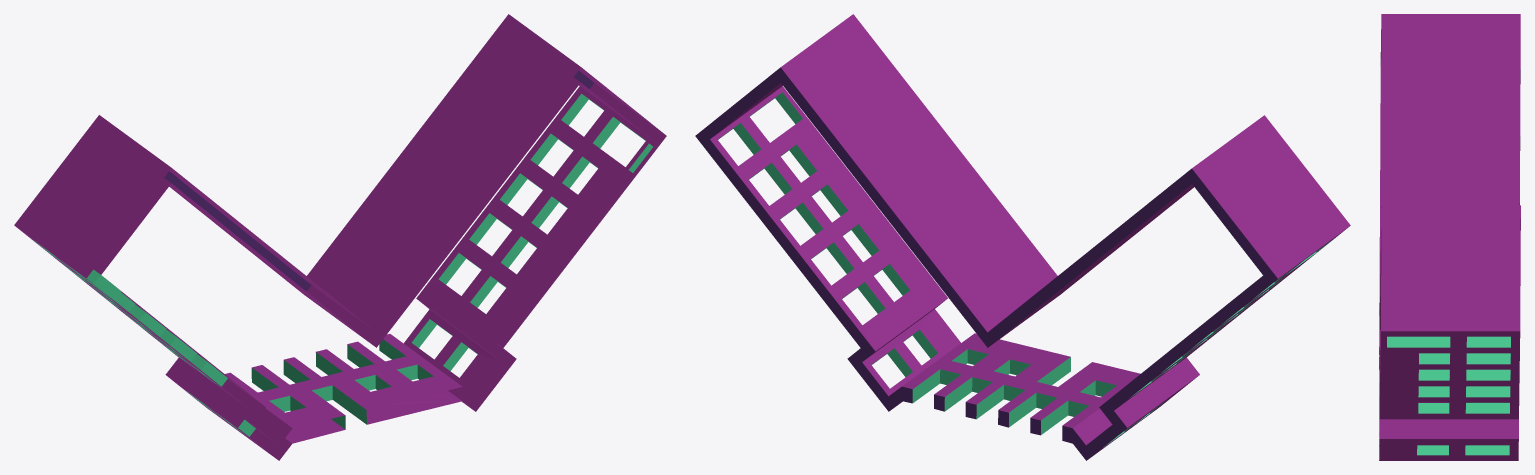
The model's file is Gmach Powiatowego Związku Samorządowego Tier 1.fbx.
The picture shows the model from 3 angles, left to right: view 1: azimuth 30°, elevation 25°; view 2: azimuth 150°, elevation 25°; view 3: azimuth 270°, elevation 25°; orthographic projection. The views are drawn at different scales.
Visible parts, largest first — view 1: Gmach Powiatowego Związku SamorządowegoV2; view 2: Gmach Powiatowego Związku SamorządowegoV2; view 3: Gmach Powiatowego Związku SamorządowegoV2.
Boxes of the visible parts, x1=… form: Gmach Powiatowego Związku SamorządowegoV2: x1=14, y1=14, x2=666, y2=460; Gmach Powiatowego Związku SamorządowegoV2: x1=695, y1=14, x2=1350, y2=460; Gmach Powiatowego Związku SamorządowegoV2: x1=1379, y1=14, x2=1520, y2=460.
Bounding box in the file's own units: 4.53 × 2.38 × 0.9967.
